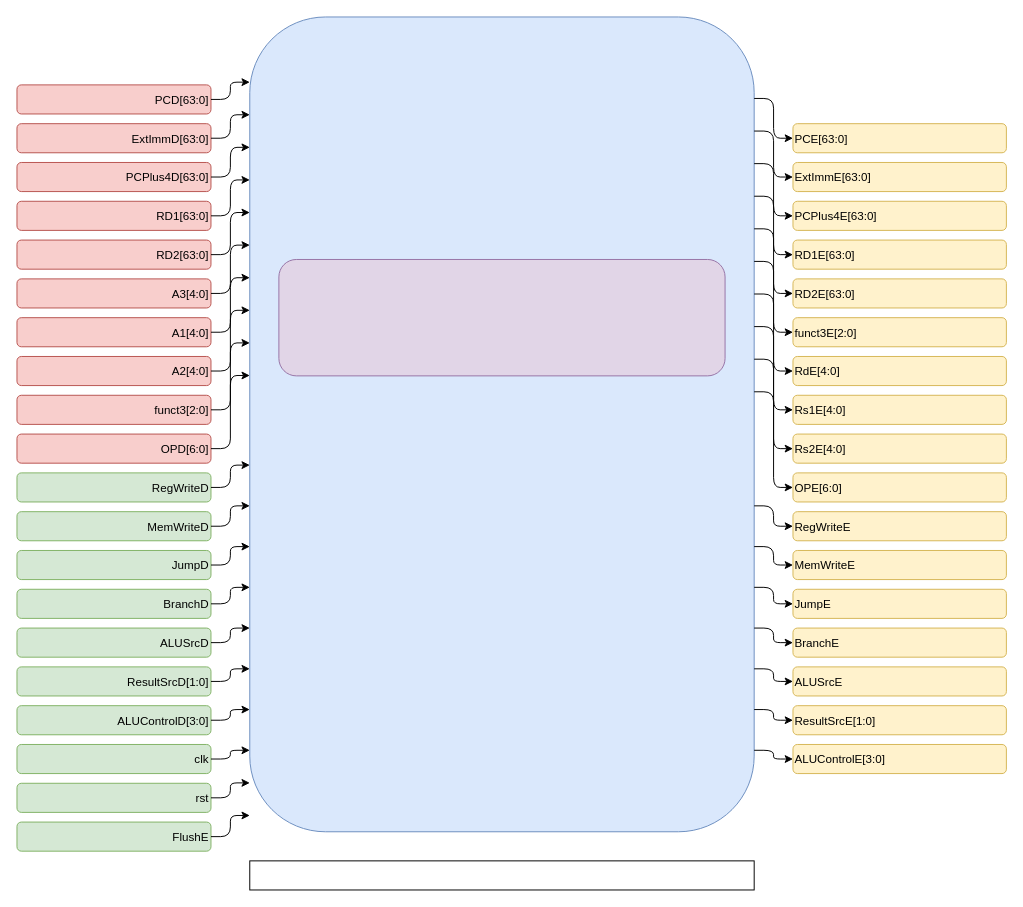
The diagram is 1023 pixels wide and 907 high, and some of its shapes have lost their labels. The box of each missing label's shape, as (x1, y1, x2, y2) in pixels:
ID / EX Pipeline Register: (249, 860, 754, 890)
Pipeline Register Logic • clk↑ latch • Reset OR FlushE → Clear: (278, 259, 725, 376)
